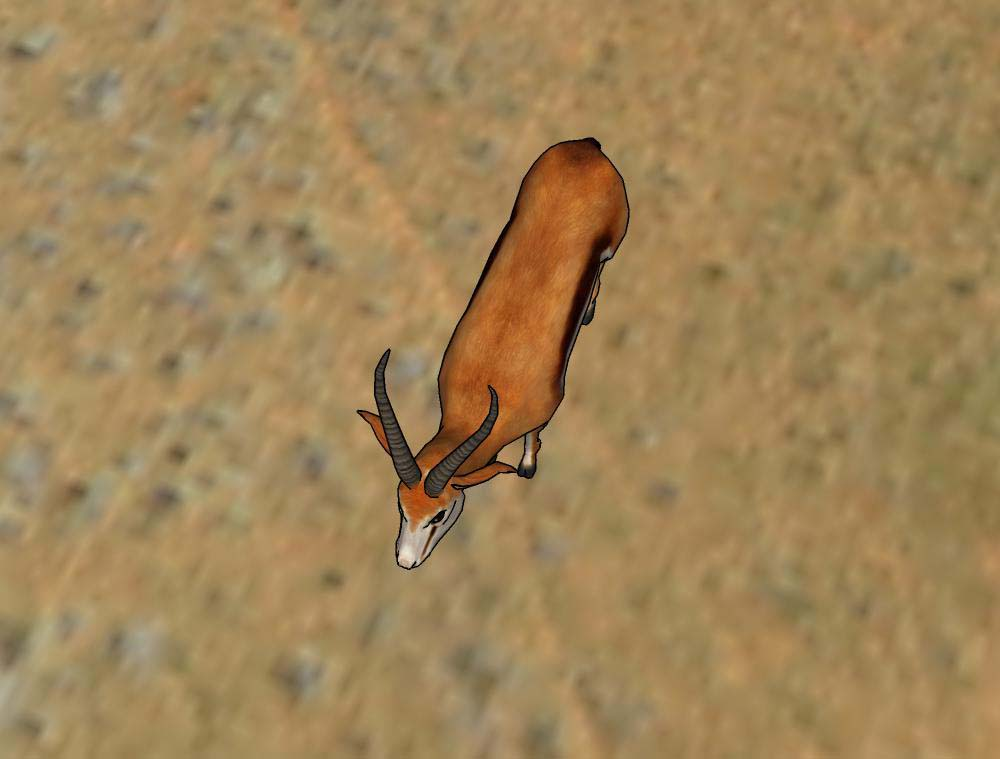springbok: (353, 134, 639, 578)
